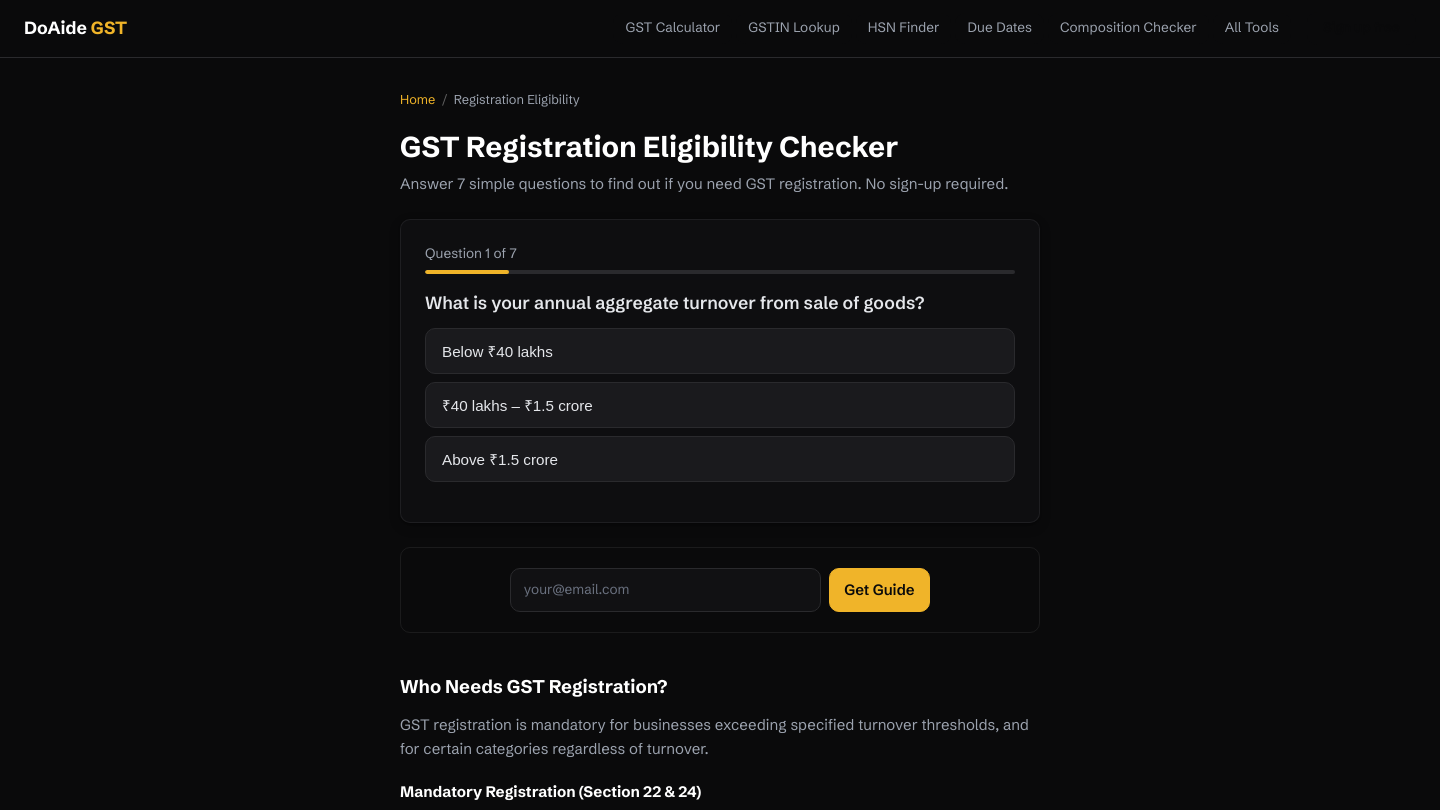
Scenario: RegistrationCheckerPage › advances to next question on option click
The width and height of the screenshot is (1440, 810).
Click the button "Below ₹40 lakhs": x=497, y=352 [425, 328, 1015, 374]
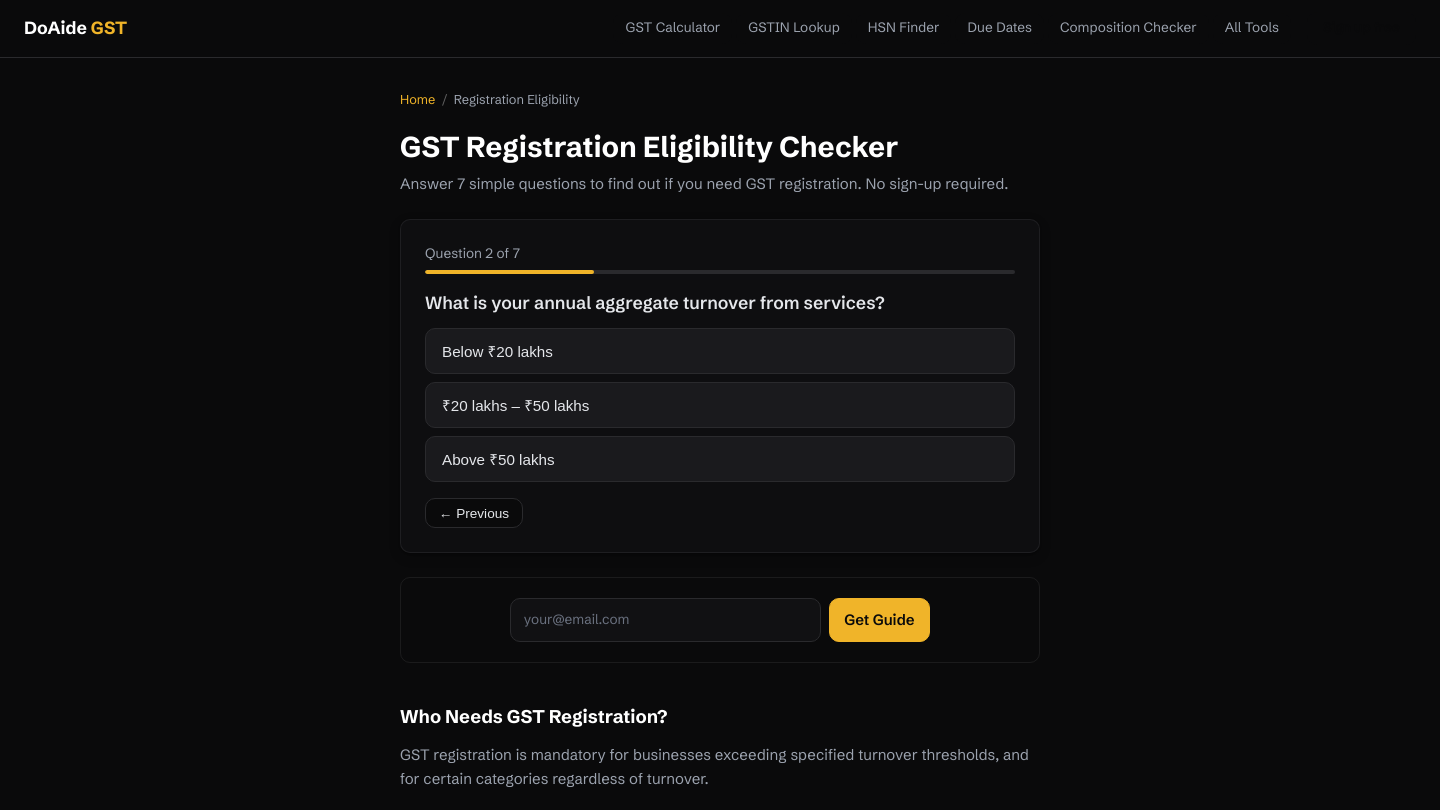
Expected: the text "Question 2 of 7" is shown, [425, 244, 1015, 274]
